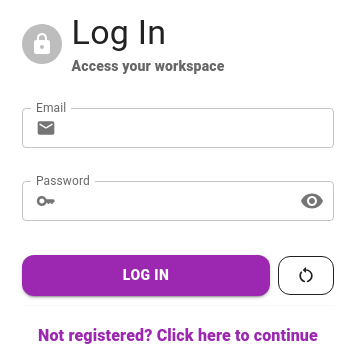
Scenario: LogInForm › restarts values and validation feedback
In the field labelled "Email": coordinates (199, 128) [64,108,334,148], type "user@example.com"
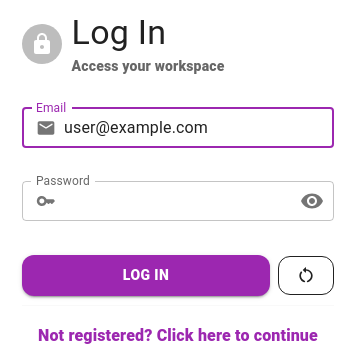
In the password field labelled "Password": coordinates (174, 201) [64,181,284,221], type "x"
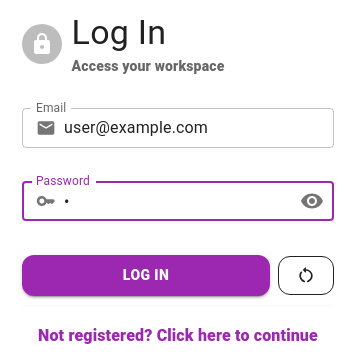
Click the button "Log in": coordinates (146, 275) [22,255,270,296]
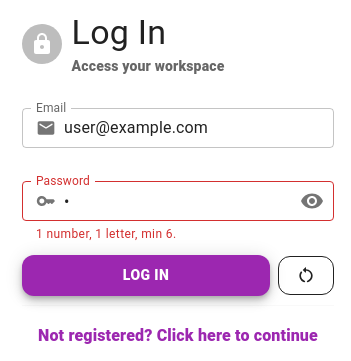
Expected: the text "1 number, 1 letter, min 6." is shown, [36,227,176,241]
Click the button titled "Restart": coordinates (306, 275) [278,256,334,295]
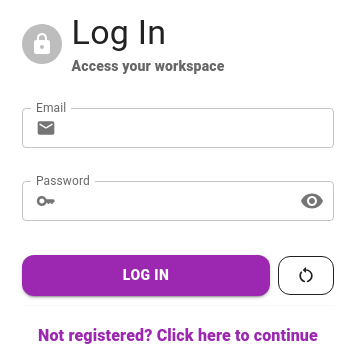
Expected: the password field labelled "Password" is empty, [64,181,284,221]
Expected: the field labelled "Email" is empty, [64,108,334,148]
Expected: the text "1 number, 1 letter, min 6." is gone
